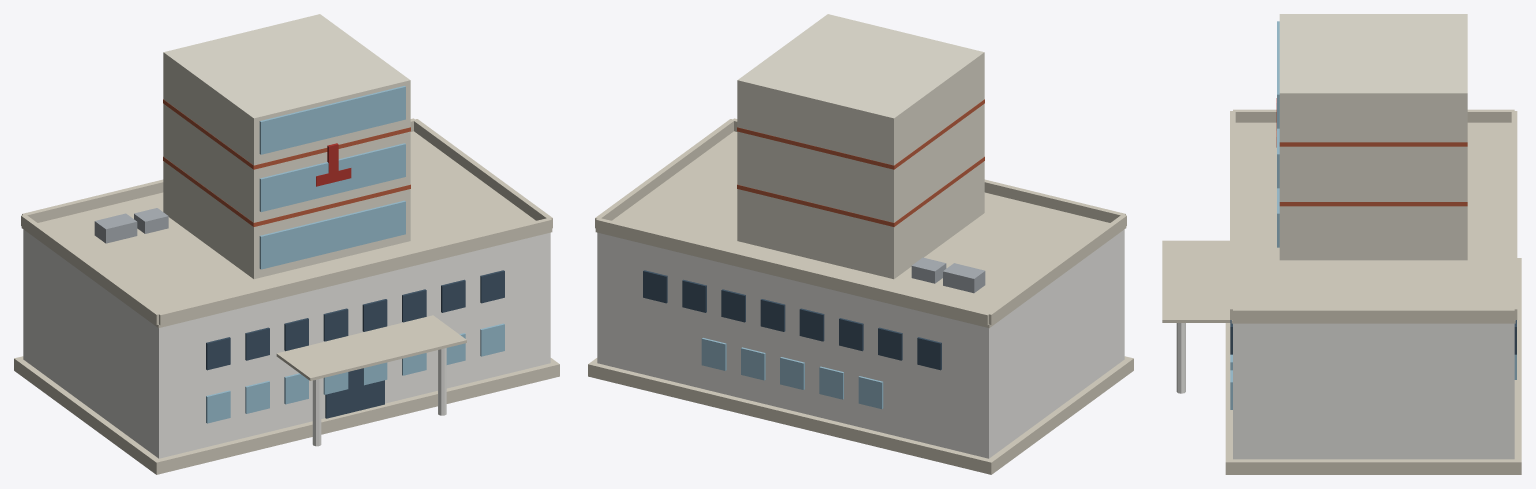
Rendered from building.hospital.glb.
3 views of the same model, side by side, from view 1: azimuth 30°, elevation 25°; view 2: azimuth 150°, elevation 25°; view 3: azimuth 270°, elevation 25° (orthographic). The views are drawn at different scales.
Visible parts, largest first — view 1: building.hospital; view 2: building.hospital; view 3: building.hospital.
Part boxes in pixels (box(x1,y1,x2,y2)): building.hospital: box(14, 14, 559, 474); building.hospital: box(588, 14, 1133, 474); building.hospital: box(1162, 14, 1521, 474).
Size of the model in its own units: 20.6 by 15 by 15.3.
